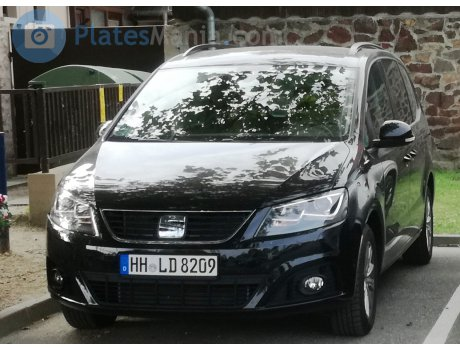License Plates: (132, 257, 210, 274)
